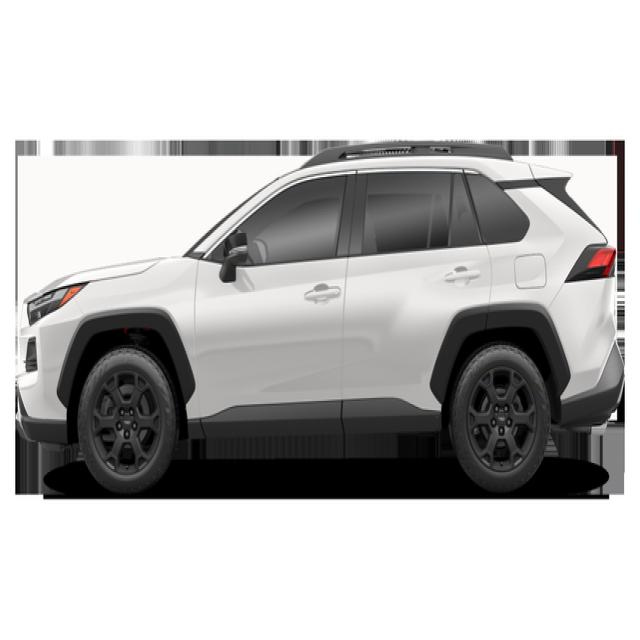light_vehicle: (15, 142, 624, 498)
